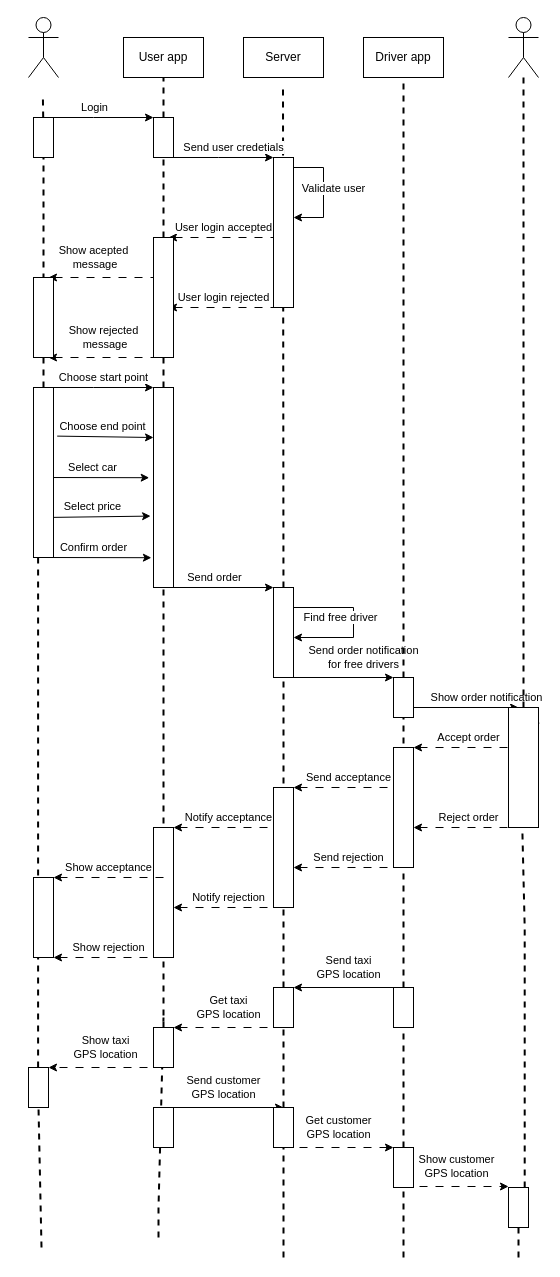
Image size: 560x1277. Some labels were removed from this diagram. The shapes that lost their labels are listed below. From the top down, each one's centre as x and y in pixels, then its label:
At (x=43, y=47): "Customer".
At (x=523, y=47): "Driver".
